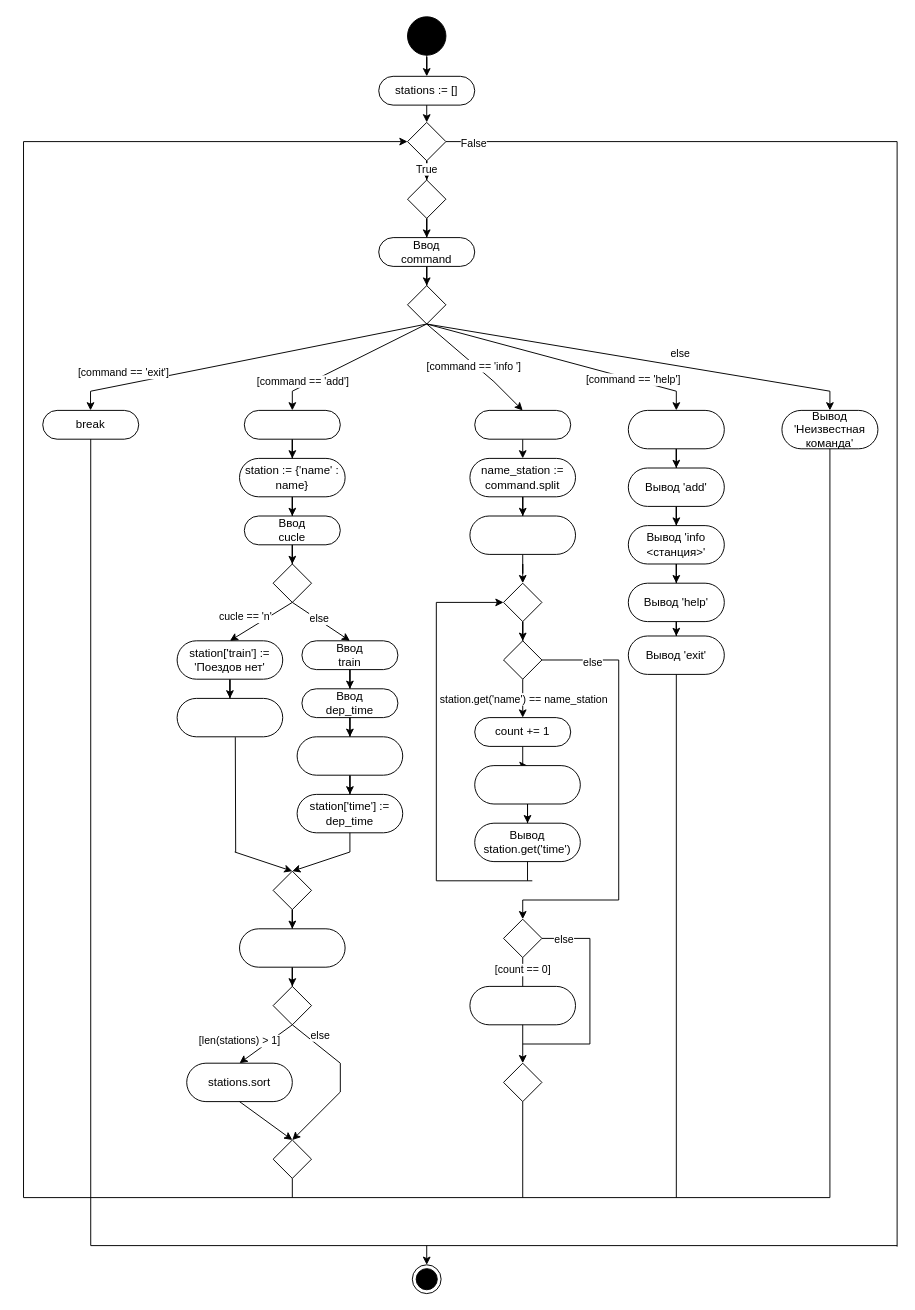
Some shapes in this 915 by 1310 pixel diagram are drawn without their labels. Each missing label, with the centre of its shape:
count := 0: point 522,424
name_station := name_station[1]: point 522,534
station['time'] := ' ': point 229,717
station['train'] := train: point 349,755
stations.append (station): point 292,947
Ввод name: point 291,424
Вывод 'Список команд': point 675,429
Вывод 'Станция не найдена': point 522,1005
Вывод station.get('train'): point 527,784
